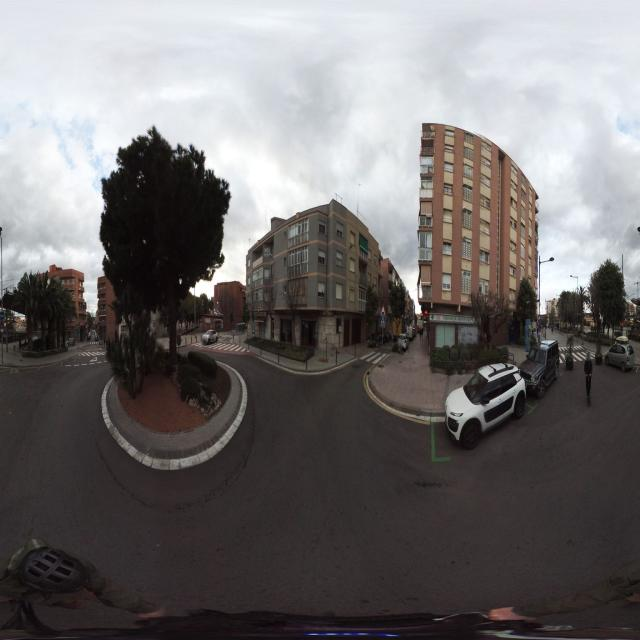forb_stopping: (538, 324, 541, 331)
